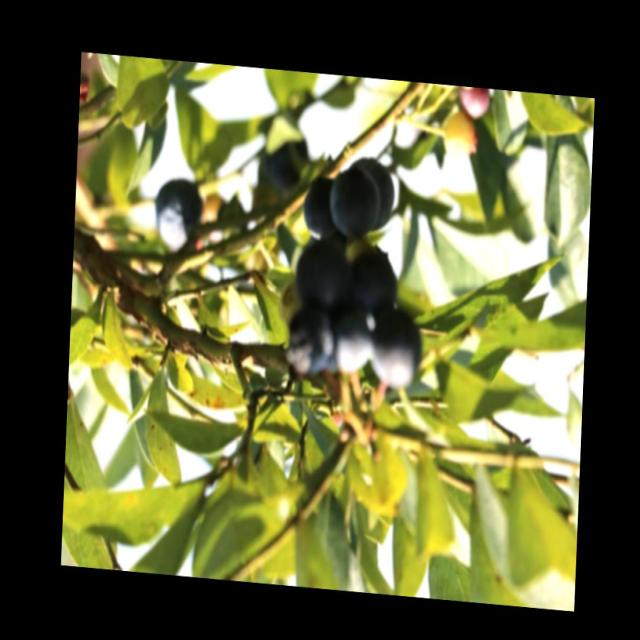blueberry: (368, 309, 423, 393), (344, 241, 401, 321), (350, 151, 399, 236), (150, 172, 202, 252), (329, 164, 382, 242), (294, 236, 344, 315), (282, 304, 334, 378), (328, 303, 372, 374), (300, 173, 335, 239)
blueberry-halfripe: (439, 108, 477, 160)
